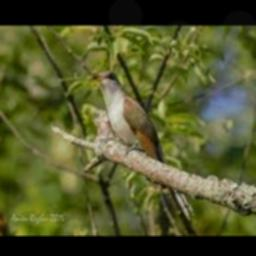Cuckoo: (93, 71, 194, 221)
